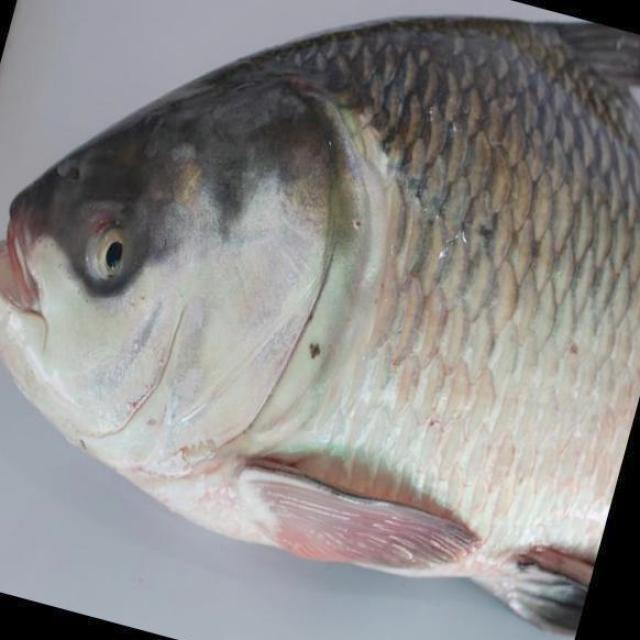Catla: (0, 15, 640, 640)
